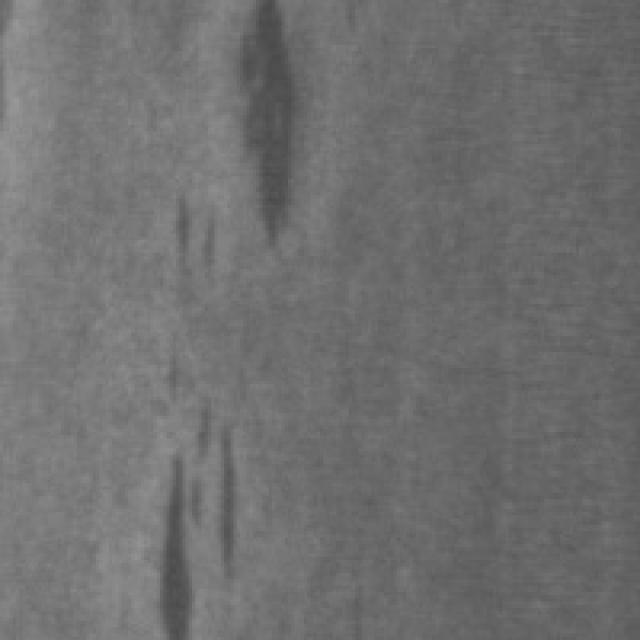inclusion: (141, 176, 240, 630), (227, 0, 304, 246)
